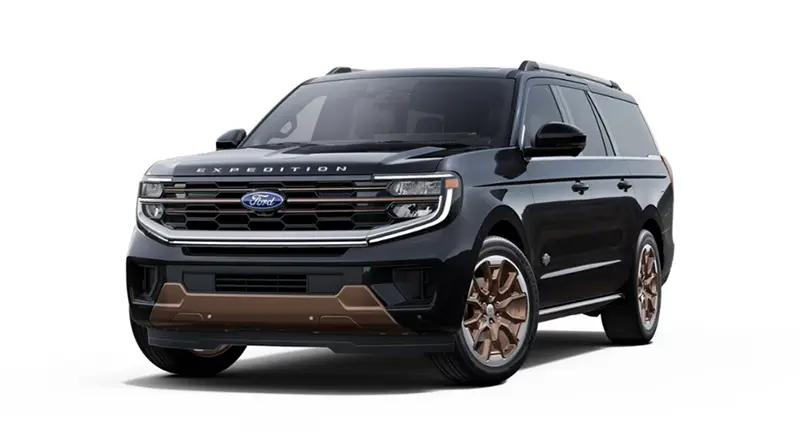car: (119, 57, 685, 391)
